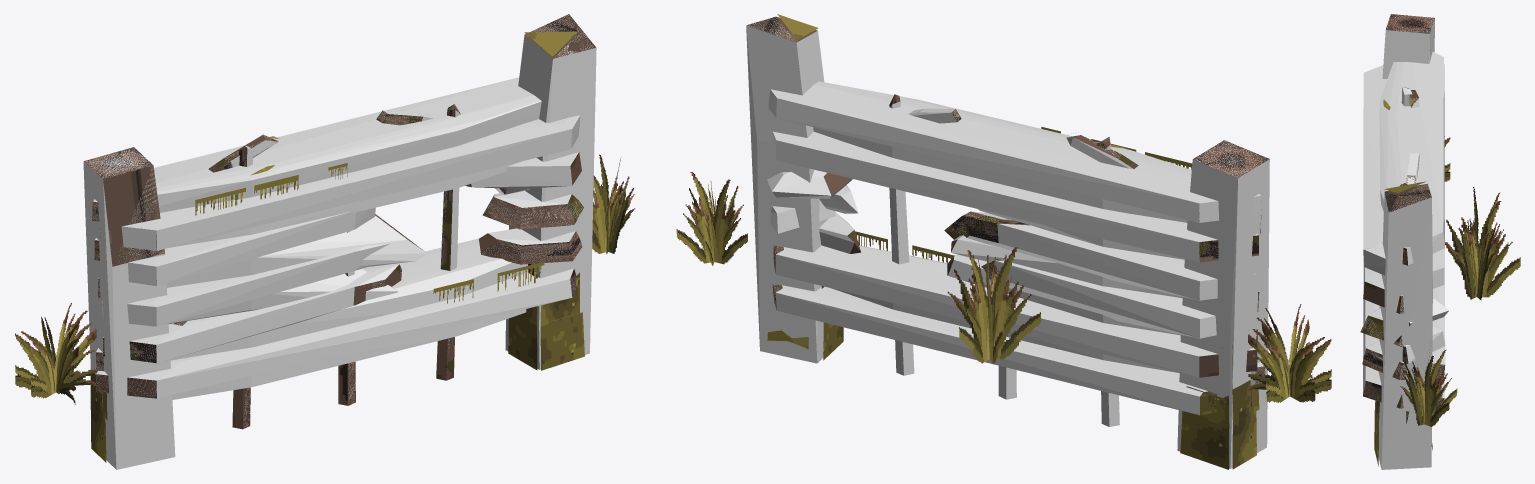
Rendered from SM_SW19_WaterFenceWattle_Parts.fbx.
3 renders of one model, left to right at view 1: azimuth 30°, elevation 25°; view 2: azimuth 150°, elevation 25°; view 3: azimuth 270°, elevation 25°, orthographic. The views are drawn at different scales.
Parts seen in each view (by area): view 1: SW19b_Rod_12_COL, SW19b_Rod_8_COL, SW19b_Post_1_COL, SW19b_Rod_7_COL, SW19b_Post_2_COL, SW19b_Grass, SW19b_Rod_10_COL, SW19b_Rod_4_COL, SW19b_Rod_5_COL, SW19b_Rod_2_COL, SW19b_Post_2, SW19b_Post_1 (+15 smaller); view 2: SW19b_Rod_12_COL, SW19b_Post_1_COL, SW19b_Post_2_COL, SW19b_Grass, SW19b_Rod_10_COL, SW19b_Rod_11_COL, SW19b_Rod_9_COL, SW19b_Rod_6_COL, SW19b_Rod_3_COL, SW19b_Post_1, SW19b_Rod_8_COL, SW19b_Rod_4_COL (+11 smaller); view 3: SW19b_Post_2_COL, SW19b_Rod_12_COL, SW19b_Grass, SW19b_Rod_8_COL, SW19b_Post_1_COL, SW19b_Post_2, SW19b_Rod_7_COL, SW19b_Post_1, SW19b_Rod_10_COL, SW19b_Rod_16, SW19b_Rod_14, SW19b_Rod_15 (+8 smaller).
Part boxes in pixels (x1,y1,x2,y2): SW19b_Rod_12_COL: [92, 77, 541, 221]; SW19b_Rod_8_COL: [100, 115, 580, 250]; SW19b_Post_1_COL: [83, 147, 175, 469]; SW19b_Rod_7_COL: [96, 268, 576, 398]; SW19b_Post_2_COL: [505, 15, 596, 369]; SW19b_Grass: [15, 154, 635, 404]; SW19b_Rod_10_COL: [96, 238, 527, 372]; SW19b_Rod_4_COL: [102, 243, 390, 326]; SW19b_Rod_5_COL: [103, 263, 401, 362]; SW19b_Rod_2_COL: [128, 207, 375, 286]; SW19b_Post_2: [508, 14, 596, 370]; SW19b_Post_1: [84, 147, 164, 462]; SW19b_Rod_12_COL: [768, 81, 1261, 222]; SW19b_Post_1_COL: [1177, 140, 1269, 468]; SW19b_Post_2_COL: [746, 17, 835, 363]; SW19b_Grass: [676, 127, 1331, 409]; SW19b_Rod_10_COL: [774, 245, 1255, 377]; SW19b_Rod_11_COL: [772, 131, 1258, 262]; SW19b_Rod_9_COL: [773, 284, 1207, 415]; SW19b_Rod_6_COL: [946, 211, 1255, 300]; SW19b_Rod_3_COL: [982, 260, 1216, 338]; SW19b_Post_1: [1180, 140, 1269, 469]; SW19b_Rod_8_COL: [813, 127, 1261, 231]; SW19b_Rod_4_COL: [951, 235, 1258, 311]; SW19b_Post_2_COL: [1378, 186, 1432, 469]; SW19b_Rod_12_COL: [1379, 52, 1444, 265]; SW19b_Grass: [1376, 136, 1520, 426]; SW19b_Rod_8_COL: [1363, 65, 1387, 275]; SW19b_Post_1_COL: [1382, 14, 1434, 78]; SW19b_Post_2: [1374, 181, 1432, 466]; SW19b_Rod_7_COL: [1363, 263, 1402, 408]; SW19b_Post_1: [1383, 14, 1434, 69]; SW19b_Rod_10_COL: [1379, 248, 1445, 379]; SW19b_Rod_16: [1362, 348, 1406, 379]; SW19b_Rod_14: [1363, 281, 1404, 313]; SW19b_Rod_15: [1360, 315, 1402, 347].
Size of the model in its own units: 3.03 by 1.47 by 0.7707.
